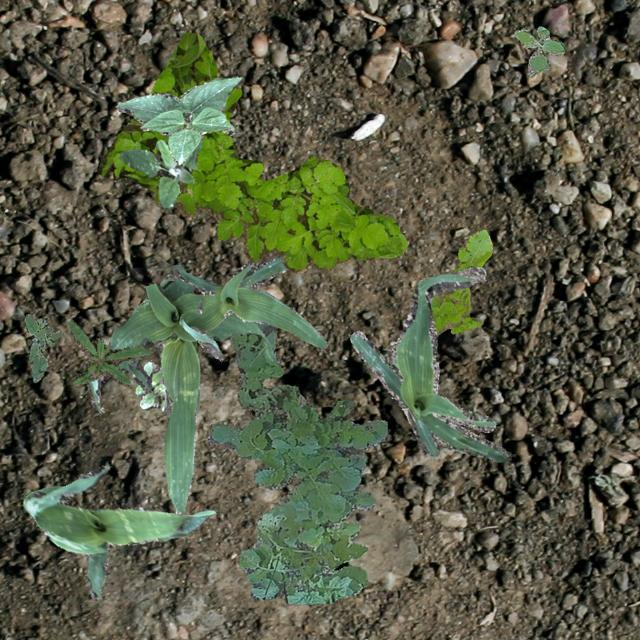crop: (350, 266, 514, 460), (22, 464, 214, 598), (88, 278, 280, 404), (132, 272, 200, 512), (174, 256, 326, 360), (114, 74, 240, 164)
weed: (97, 31, 406, 272), (206, 332, 386, 604), (428, 228, 492, 336), (118, 138, 200, 208), (66, 320, 150, 386), (23, 313, 64, 382), (514, 26, 564, 76), (134, 360, 166, 412)
